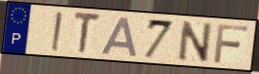7: (143, 17, 176, 59)
A: (100, 15, 140, 58)
F: (213, 23, 250, 65)
I: (50, 10, 64, 53)
N: (177, 19, 214, 64)
T: (73, 11, 103, 56)
